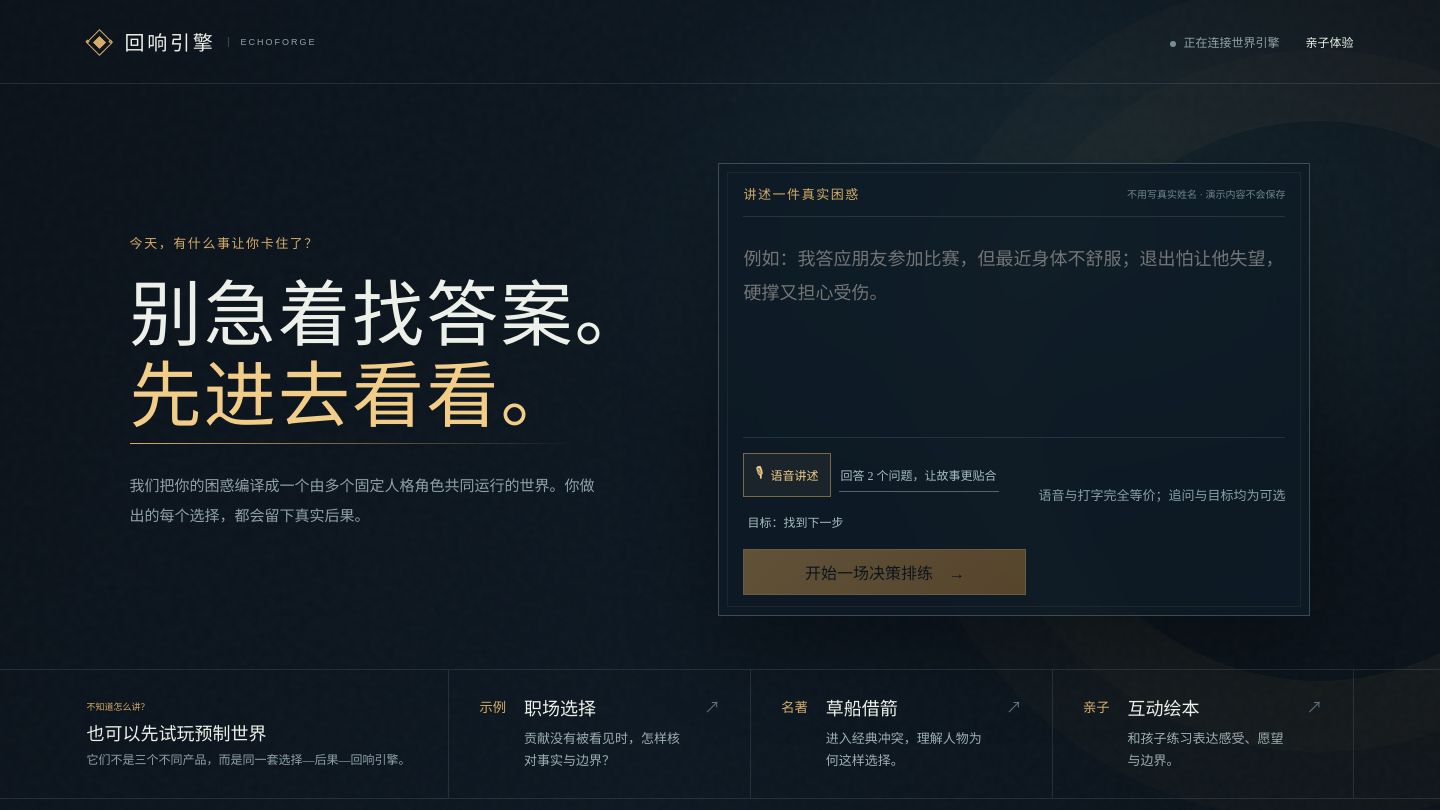
Scenario: dynamic world UI › offers a visible voice entry and optional guided agent questions
The image size is (1440, 810).
Expected: the button with aria-label "开始语音讲述" is shown, [743,454,831,498]
Click the button "回答 2 个问题，让故事更贴合" at coordinates (919, 476), box [839,459,999,492]
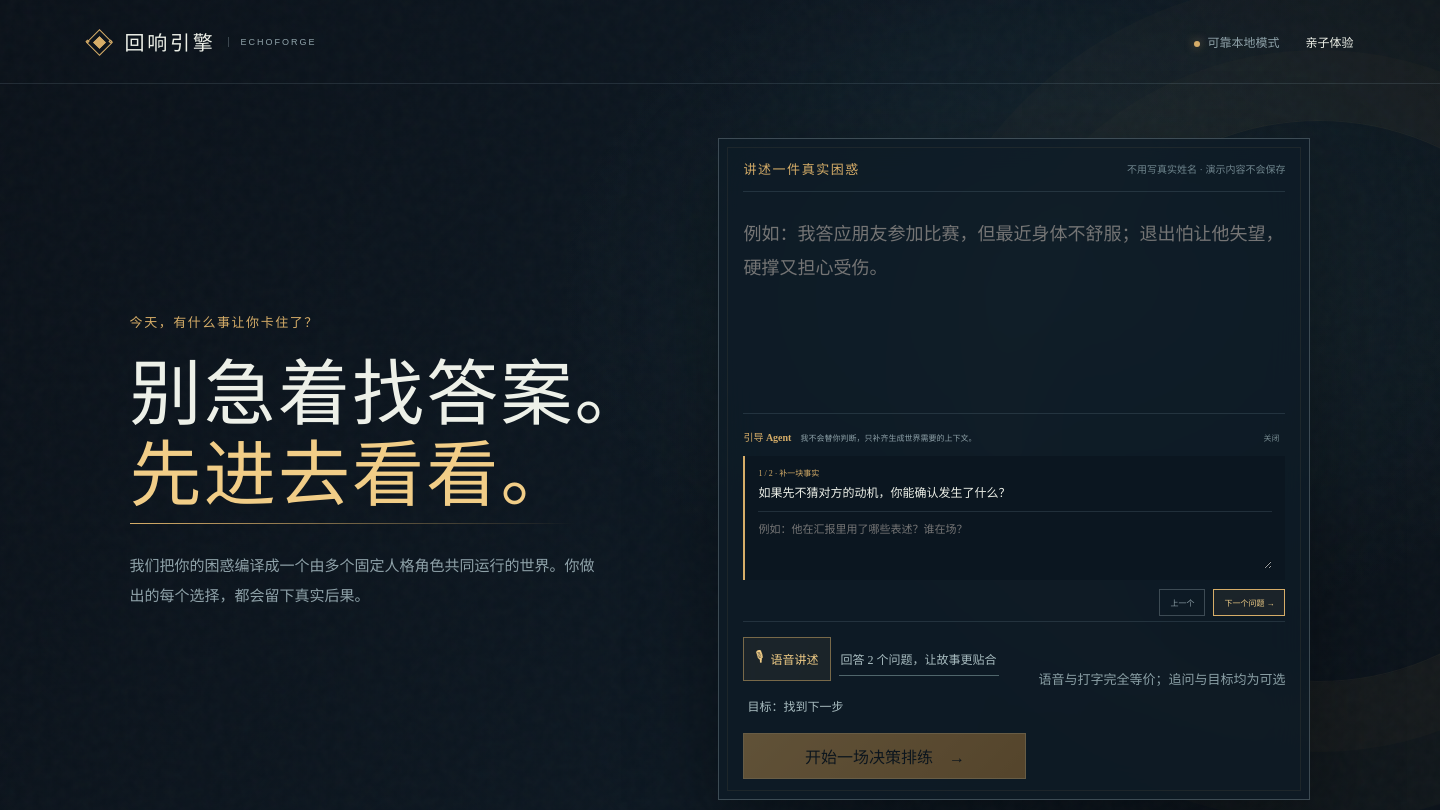
Expected: the element named "引导 Agent 追问" is shown, [743,413,1285,621]
Expected: the text "我不会替你判断，只补齐生成世界需要的上下文。" is shown, [800,434,976,443]
